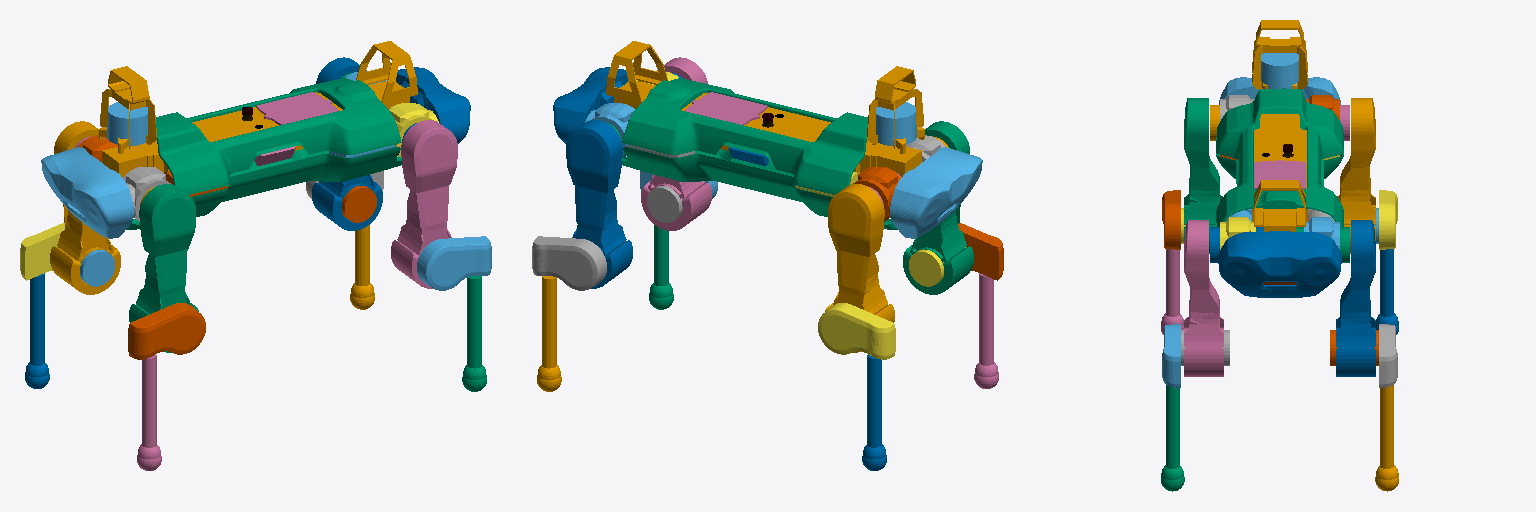
--- Facts derived from the render (not from the file) ---
Views: 3 orthographic renders of the robot side by side, from view 1: azimuth 30°, elevation 25°; view 2: azimuth 150°, elevation 25°; view 3: azimuth 270°, elevation 25°.
Robot: anymal — 63 links, 62 joints (12 revolute, 50 fixed); root link base; default pose: every joint at zero.
Links seen in each view (by area): view 1: shell, RF_thigh_fixed, RH_thigh_fixed, base, face_rear, LH_thigh_fixed, RH_shank_fixed, RF_shank_fixed, LF_thigh_fixed, face_front, velodyne_cage, RF_FOOT (+10 smaller); view 2: shell, LF_thigh_fixed, LH_thigh_fixed, base, face_rear, RH_thigh_fixed, LH_shank_fixed, LF_shank_fixed, RF_thigh_fixed, face_front, velodyne_cage, LF_FOOT (+10 smaller); view 3: shell, face_front, LF_thigh_fixed, RF_thigh_fixed, base, RH_thigh_fixed, LH_thigh_fixed, velodyne_cage, LF_FOOT, RF_FOOT, velodyne, LH_FOOT (+9 smaller).
Link boxes in pixels (x1,y1,x2,y2): shell: (126,78,401,229); RF_thigh_fixed: (391,120,457,288); RH_thigh_fixed: (129,184,198,352); base: (102,41,417,176); face_rear: (41,147,133,238); LH_thigh_fixed: (50,121,120,294); RH_shank_fixed: (128,303,205,359); RF_shank_fixed: (417,236,491,290); LF_thigh_fixed: (312,57,382,230); face_front: (396,67,470,143); velodyne_cage: (99,66,156,153); RF_FOOT: (462,276,486,391); shell: (622,78,897,229); LF_thigh_fixed: (566,120,632,288); LH_thigh_fixed: (825,184,894,352); base: (606,41,921,176); face_rear: (890,147,982,238); RH_thigh_fixed: (903,121,973,294); LH_shank_fixed: (818,303,895,359); LF_shank_fixed: (532,236,606,290); RF_thigh_fixed: (641,57,711,230); face_front: (553,67,627,143); velodyne_cage: (867,66,924,153); LF_FOOT: (537,276,561,391); shell: (1216,88,1343,226); face_front: (1218,231,1341,297); LF_thigh_fixed: (1336,220,1375,376); RF_thigh_fixed: (1184,220,1223,376); base: (1252,114,1307,231); RH_thigh_fixed: (1184,98,1222,253); LH_thigh_fixed: (1337,98,1375,253); velodyne_cage: (1252,20,1307,89); LF_FOOT: (1375,385,1398,491); RF_FOOT: (1161,385,1184,491); velodyne: (1261,53,1298,88); LH_FOOT: (1376,249,1398,334).
Size in the robot's own frame: 1.06 by 0.594 by 0.9076 metres.
Meshes: 16 distinct files referenced, 39 mesh visuals loaded (16 Collada DAE).

The robot description file, URDF, robot "anymal":
<?xml version="1.0" encoding="utf-8"?>
<!-- =================================================================================== -->
<!-- |    This document was autogenerated by xacro from anymal_c.urdf.xacro            | -->
<!-- |    EDITING THIS FILE BY HAND IS NOT RECOMMENDED                                 | -->
<!-- =================================================================================== -->
<!-- This file contains the description of the ANYmal robot. -->
<robot name="anymal" xmlns:xacro="http://www.ros.org/wiki/xacro">
    <material name="anymal_material">
        <color rgba="0.7 0.7 0.7 1.0"/>
    </material>
    <gazebo>
        <plugin filename="libanymal_gazebo.so" name="gazebo_ros_control">
            <robotNamespace>anymal</robotNamespace>
            <!-- Currently unused -->
            <robotDescription>anymal_description</robotDescription>
            <robotBaseLink>base</robotBaseLink>
        </plugin>
    </gazebo>
    <!-- [kg * m^2] -->
    <!-- Base link -->
    <link name="base">
        <visual>
            <origin rpy="0 0 0" xyz="0 0 0"/>
            <geometry>
                <mesh filename="../meshes/base_3_1_1_mesh.dae" scale="1.0 1.0     1.0"/>
            </geometry>
        </visual>
        <visual>
            <origin rpy="0 0 0" xyz="0 0 0"/>
            <geometry>
                <mesh filename="../meshes/handle_3_1_1_mesh.dae" scale="1.0 1.0     1.0"/>
            </geometry>
        </visual>
    </link>
    <!-- Fixed joint to add dummy inertia link -->
    <joint name="base_to_base_inertia" type="fixed">
        <parent link="base"/>
        <child link="base_inertia"/>
        <origin rpy="0 0 0" xyz="0 0 0"/>
    </joint>
    <!-- Dummy inertia link, because KDL cannot have inertia on the base link -->
    <link name="base_inertia">
        <inertial>c
            <origin rpy="0 0 0" xyz="-0.021735324742 -0.001486870654 0.024282211582"/>
            <mass value="10.396012993"/>
            <inertia ixx="0.0373546074128" ixy="-0.00065609405117" ixz="0.00018657925965" iyy="0.746506907991" iyz="-0.000230891041262" izz="0.747061691514"/>
        </inertial>
    </link>
    <!-- Fixed joint to add docking socket -->
    <joint name="base_to_docking_socket" type="fixed">
        <parent link="base"/>
        <child link="docking_socket"/>
        <origin rpy="0 0 0" xyz="0.343 0.0 -0.08"/>
    </joint>
    <!-- Docking socket link -->
    <link name="docking_socket"/>
    <link name="imu_link">
        <inertial>
            <mass value="0.05"/>
            <origin xyz="0 0 0"/>
            <inertia ixx="1.60333333333e-05" ixy="0.0" ixz="0.0" iyy="2.80333333333e-05" iyz="0.0" izz="1.60333333333e-05"/>
        </inertial>
    </link>
    <joint name="imu_joint" type="fixed">
        <parent link="base"/>
        <child link="imu_link"/>
        <origin rpy="0 0 0" xyz="0.379624 0.00445 0.0563"/>
    </joint>
    <gazebo reference="imu_link">c
        <material>Gazebo/Orange</material>
        <mu1>0.8</mu1>
        <mu2>0.8</mu2>
    </gazebo>
    <gazebo reference="imu_joint">
    </gazebo>
    <gazebo>
        <plugin filename="libany_hector_gazebo_ros_imu.so" name="imu_plugin">
            <robotNamespace>sensors</robotNamespace>
            <bodyName>imu_link</bodyName>
            <frameId>imu_link</frameId>
            <topicName>imu</topicName>
            <biasTopicName>imu/bias</biasTopicName>
            <serviceName>imu/calibrate</serviceName>
            <updateRate>400</updateRate>
        </plugin>
    </gazebo>
    <!-- [kg * m^2] -->
    <!-- [m] -->
    <!-- Camera joint -->
    <!-- Is located between the two back screw holes at ground level. -->
    <joint name="base_to_realsense_d435_left_camera" type="fixed">
        <parent link="base"/>
        <child link="realsense_d435_left_camera"/>
        <origin rpy="0.0 0.523598775598 1.57079632679" xyz="0.0 0.0722 0.0324"/>
    </joint>
    <!-- Camera link -->
    <link name="realsense_d435_left_camera">
        <visual>
            <origin rpy="0 0 0" xyz="0.0 0.0 0.0"/>
            <geometry>
                <mesh filename="../meshes/realsense_d435_3_1_1_mesh.dae" scale="1.0 1.0 1.0"/>
            </geometry>
        </visual>
        <inertial>
            <origin rpy="0 0 0" xyz="0.0642 -0.0102 0.0033"/>
            <mass value="0.2"/>
            <inertia ixx="0.002318" ixy="-1e-06" ixz="9e-06" iyy="0.00206" iyz="0.000333" izz="0.002439"/>
        </inertial>
    </link>
    <!-- Camera parent joint -->
    <!-- Frame lies on the left ir camera according to realsense2_camera urdf. -->
    <joint name="realsense_d435_left_camera_to_camera_parent" type="fixed">
        <parent link="realsense_d435_left_camera"/>
        <child link="realsense_d435_left_camera_parent"/>
        <origin rpy="0.0 0.0 0.0" xyz="0.0255 0.0175 0.0"/>
    </joint>
    <!-- Camera parent link -->
    <link name="realsense_d435_left_camera_parent"/>
    <!-- simulation or bagfile_is_played -->
    <!-- simulation -->
    <!-- [kg * m^2] -->
    <!-- [m] -->
    <!-- Camera joint -->
    <!-- Is located between the two back screw holes at ground level. -->
    <joint name="base_to_realsense_d435_right_camera" type="fixed">
        <parent link="base"/>
        <child link="realsense_d435_right_camera"/>
        <origin rpy="0.0 0.523598775598 -1.57079632679" xyz="0.0 -0.0722 0.0324"/>
    </joint>
    <!-- Camera link -->
    <link name="realsense_d435_right_camera">
        <visual>
            <origin rpy="0 0 0" xyz="0.0 0.0 0.0"/>
            <geometry>
                <mesh filename="../meshes/realsense_d435_3_1_1_mesh.dae" scale="1.0 1.0 1.0"/>
            </geometry>
        </visual>
        <inertial>
            <origin rpy="0 0 0" xyz="0.0642 -0.0102 0.0033"/>
            <mass value="0.2"/>
            <inertia ixx="0.002318" ixy="-1e-06" ixz="9e-06" iyy="0.00206" iyz="0.000333" izz="0.002439"/>
        </inertial>
    </link>
    <!-- Camera parent joint -->
    <!-- Frame lies on the left ir camera according to realsense2_camera urdf. -->
    <joint name="realsense_d435_right_camera_to_camera_parent" type="fixed">
        <parent link="realsense_d435_right_camera"/>
        <child link="realsense_d435_right_camera_parent"/>
        <origin rpy="0.0 0.0 0.0" xyz="0.0255 0.0175 0.0"/>
    </joint>
    <!-- Camera parent link -->
    <link name="realsense_d435_right_camera_parent"/>
    <!-- simulation or bagfile_is_played -->
    <!-- simulation -->
    <!-- [kg * m^2] -->
    <!-- [m] -->
    <!-- parent to cage joint, located between mounting plate on trunk and the cage -->
    <joint name="base_to_velodyne_cage" type="fixed">
        <parent link="base"/>
        <child link="velodyne_cage"/>
        <origin rpy="0 0 3.14159265359" xyz="-0.35 0.0 0.1"/>
        <!--<origin rpy="0 0 0" xyz="-0.35 0.0 0.0813"/>-->
    </joint>
    <!-- Velodyne cage link -->
    <link name="velodyne_cage">
        <visual>
            <origin rpy="0.0 0.0 0.0" xyz="0.0 0.0 0.0"/>
            <geometry>
                <mesh filename="../meshes/cage_3_1_1_mesh.dae" scale="1.0 1.0 1.0"/>
            </geometry>
        </visual>
        <inertial>
            <origin rpy="0.0 0.0 0.0" xyz="0.0642 -0.0102 0.0033"/>
            <mass value="0.2"/>
            <inertia ixx="0.002318" ixy="-1e-06" ixz="9e-06" iyy="0.00206" iyz="0.000333" izz="0.002439"/>
        </inertial>
    </link>
    <!-- [kg * m^2] -->
    <!-- parent to sensor joint -->
    <joint name="velodyne_cage_to_velodyne" type="fixed">
        <parent link="velodyne_cage"/>
        <child link="velodyne"/>
        <origin rpy="0.0 0.0 0.0" xyz="0.0 0.0 0.05"/>
        <!--<origin rpy="0.0 0.0 1.57079632679" xyz="0.0 0.0 0.0687"/>-->
    </joint>
    <!-- Velodyne sensor link -->
    <link name="velodyne">
        <inertial>
            <!--<origin rpy="0.0 0.0 0.0" xyz="0.0 8e-05 -0.0025"/>-->
            <!--<mass value="0.59"/>-->
            <!--<inertia ixx="0.00063992282" ixy="1.1e-10" ixz="5.061e-08" iyy="0.00063682474" iyz="1.38867e-06" izz="0.00075943194"/>-->
            <origin rpy="0.0 0.0 0.0" xyz="0.0642 -0.0102 0.0033"/>
            <mass value="0.5"/>
            <inertia ixx="0.002318" ixy="-1e-06" ixz="9e-06" iyy="0.00206" iyz="0.000333" izz="0.002439"/>
        </inertial>



        <visual>
            <origin xyz="0 0 0"/>
            <geometry>
                <mesh filename="../meshes/velodyne_3_1_1_mesh.dae"/>
            </geometry>
        </visual>
    </link>
    <!-- simulation -->
    <!-- [m] -->
    <!-- measured -->
    <!-- Fixed joint base shell -->
    <joint name="base_shell" type="fixed">
        <parent link="base"/>
        <child link="shell"/>
        <origin rpy="0 0 0" xyz="0 0 0"/>
    </joint>
    <!-- Shell link -->
    <link name="shell">
        <visual>
            <origin rpy="0 0 0" xyz="0 0 0"/>
            <geometry>
                <mesh filename="../meshes/bottom_shell_3_1_1_mesh.dae" scale="1.0 1.0 1.0"/>
            </geometry>
        </visual>
        <visual>
            <origin rpy="0 0 0" xyz="0 0 0"/>
            <geometry>
                <mesh filename="../meshes/top_shell_3_1_1_mesh.dae" scale="1.0 1.0 1.0"/>
            </geometry>
        </visual>

        <collision>
            <origin rpy="0 0 0" xyz="0 0 0"/>
            <geometry>
                <box size="1.06 0.14 0.18"/>
            </geometry>
        </collision>
        <!--        <collision>-->
        <!--            <origin rpy="0 1.57079632679 0" xyz="0.2175 0.07 0"/>-->
        <!--            <geometry>-->
        <!--                <cylinder length="0.145" radius="0.09"/>-->
        <!--            </geometry>-->
        <!--        </collision>-->
        <!--        <collision>-->
        <!--            <origin rpy="0 1.57079632679 0" xyz="-0.2175 0.07 0"/>-->
        <!--            <geometry>-->
        <!--                <cylinder length="0.145" radius="0.09"/>-->
        <!--            </geometry>-->
        <!--        </collision>-->
        <!--        <collision>-->
        <!--            <origin rpy="0 1.57079632679 0" xyz="0.2175 -0.07 0"/>-->
        <!--            <geometry>-->
        <!--                <cylinder length="0.145" radius="0.09"/>-->
        <!--            </geometry>-->
        <!--        </collision>-->
        <!--        <collision>-->
        <!--            <origin rpy="0 1.57079632679 0" xyz="-0.2175 -0.07 0"/>-->
        <!--            <geometry>-->
        <!--                <cylinder length="0.145" radius="0.09"/>-->
        <!--            </geometry>-->
        <!--        </collision>-->
        <inertial>
            <origin rpy="0 0 0" xyz="0.001601658696 4.994078e-06 -0.053989505466"/>
            <mass value="1.268141902"/>
            <inertia ixx="0.0135322195912" ixy="-4.331264849e-06" ixz="0.000309123980027" iyy="0.0696430373562" iyz="-5.70632185e-07" izz="0.0735432141695"/>
        </inertial>
        <!-- Shell self filtering -->
        <self_filter>
            <origin rpy="0 0 0" xyz="0 0 0"/>
            <geometry>
                <box size="1.05 0.5 0.25"/>
            </geometry>
        </self_filter>
    </link>
    <!-- [kg * m^2] -->
    <!-- Fixed joint base battery -->
    <joint name="base_battery" type="fixed">
        <parent link="base"/>
        <child link="battery"/>
        <origin rpy="0 0 0" xyz="0 0 0"/>
    </joint>
    <!-- Shell link -->
    <link name="battery">
        <inertial>
            <origin rpy="0 0 0" xyz="-0.002960176299 -0.000123548844 -0.029760061761"/>
            <mass value="5.55"/>
            <inertia ixx="0.00745552667311" ixy="-0.000137110335303" ixz="0.000113360685966" iyy="0.0789745608826" iyz="1.220264954e-06" izz="0.081437267966"/>
        </inertial>
    </link>
    <!-- [m] -->
    <!-- measured -->
    <!-- Fixed joint base face -->
    <joint name="base_face_front" type="fixed">
        <parent link="base"/>
        <child link="face_front"/>
        <origin rpy="0 0 -0.0" xyz="0.42 0 0"/>
    </joint>
    <!-- Shell link -->
    <link name="face_front">
        <visual>
            <origin rpy="0 0 0" xyz="0 0 0"/>
            <geometry>
                <mesh filename="../meshes/face_3_1_1_mesh.dae" scale="1.0 1.0 1.0"/>
            </geometry>
        </visual>
                <collision>
                    <origin rpy="0 0 0" xyz="0 0 0"/>
                    <geometry>
                        <box size="0.11 0.14 0.18"/>
                    </geometry>
                </collision>
        <!--        <collision>-->
        <!--            <origin rpy="0 1.57079632679 0" xyz="0 0.07 0"/>-->
        <!--            <geometry>-->
        <!--                <cylinder length="0.11" radius="0.09"/>-->
        <!--            </geometry>-->
        <!--        </collision>-->
        <!--        <collision>-->
        <!--            <origin rpy="0 1.57079632679 0" xyz="0 -0.07 0"/>-->
        <!--            <geometry>-->
        <!--                <cylinder length="0.11" radius="0.09"/>-->
        <!--            </geometry>-->
        <!--        </collision>-->
        <inertial>
            <origin rpy="0 0 0" xyz="0.058640885474 5.7767683e-05 0.006500935099"/>
            <mass value="0.3"/>
            <inertia ixx="0.00353942466306" ixy="6.9508982e-07" ixz="8.5674409639e-05" iyy="0.000912856093445" iyz="3.44298293e-07" izz="0.00305824458528"/>
        </inertial>
    </link>
    <!-- [kg * m^2] -->
    <!-- [m] -->
    <!-- Camera joint -->
    <!-- Is located between the two back screw holes at ground level. -->
    <joint name="face_front_to_realsense_d435_front_camera" type="fixed">
        <parent link="face_front"/>
        <child link="realsense_d435_front_camera"/>
        <origin rpy="0.0 0.523598775598 0" xyz="0.041 0.0 -0.022"/>
    </joint>
    <!-- Camera link -->
    <link name="realsense_d435_front_camera">
        <visual>
            <origin rpy="0 0 0" xyz="0.0 0.0 0.0"/>
            <geometry>
                <mesh filename="../meshes/realsense_d435_3_1_1_mesh.dae" scale="1.0 1.0 1.0"/>
            </geometry>
        </visual>
        <inertial>
            <origin rpy="0 0 0" xyz="0.0642 -0.0102 0.0033"/>
            <mass value="0.2"/>
            <inertia ixx="0.002318" ixy="-1e-06" ixz="9e-06" iyy="0.00206" iyz="0.000333" izz="0.002439"/>
        </inertial>
    </link>
    <!-- Camera parent joint -->
    <!-- Frame lies on the left ir camera according to realsense2_camera urdf. -->
    <joint name="realsense_d435_front_camera_to_camera_parent" type="fixed">
        <parent link="realsense_d435_front_camera"/>
        <child link="realsense_d435_front_camera_parent"/>
        <origin rpy="0.0 0.0 0.0" xyz="0.0255 0.0175 0.0"/>
    </joint>
    <!-- Camera parent link -->
    <link name="realsense_d435_front_camera_parent"/>
    <!-- simulation or bagfile_is_played -->
    <!-- simulation -->
    <!-- [kg * m^2] -->
    <!-- [m] -->
    <!-- Camera joint -->
    <!-- Is located in the center of the mounting points. -->
    <joint name="face_front_to_blackfly_front_camera" type="fixed">
        <parent link="face_front"/>
        <child link="blackfly_front_camera"/>
        <origin rpy="0 0 0" xyz="0.071 0.0 0.022"/>
    </joint>
    <!-- Camera link -->
    <link name="blackfly_front_camera">
        <visual>
            <origin rpy="0 0 0" xyz="0.0 0.0 0.0"/>
            <geometry>
                <mesh filename="../meshes/blackfly_3_1_1_mesh.dae" scale="1.0 1.0 1.0"/>
            </geometry>
        </visual>
        <inertial>
            <origin rpy="0 0 0" xyz="0.0642 -0.0102 0.0033"/>
            <mass value="0.1"/>
            <inertia ixx="0.002318" ixy="-1e-06" ixz="9e-06" iyy="0.00206" iyz="0.000333" izz="0.002439"/>
        </inertial>
    </link>
    <!-- Camera parent joint -->
    <joint name="blackfly_front_camera_to_camera_parent" type="fixed">
        <parent link="blackfly_front_camera"/>
        <child link="blackfly_front_camera_parent"/>
        <origin rpy="-1.57079632679 0.0 -1.57079632679" xyz="0.0 0.0 0.0"/>
    </joint>
    <!-- Camera parent link -->
    <link name="blackfly_front_camera_parent"/>
    <!-- simulation -->
    <!-- [m] -->
    <!-- measured -->
    <!-- Fixed joint base face -->
    <joint name="base_face_rear" type="fixed">
        <parent link="base"/>
        <child link="face_rear"/>
        <origin rpy="0 0 3.14159265359" xyz="-0.42 0 0"/>
    </joint>
    <!-- Shell link -->
    <link name="face_rear">
        <visual>
            <origin rpy="0 0 0" xyz="0 0 0"/>
            <geometry>
                <mesh filename="../meshes/face_3_1_1_mesh.dae" scale="1.0 1.0 1.0"/>
            </geometry>
        </visual>
        <inertial>
            <origin rpy="0 0 0" xyz="0.058640885474 5.7767683e-05 0.006500935099"/>
            <mass value="0.3"/>
            <inertia ixx="0.00353942466306" ixy="6.9508982e-07" ixz="8.5674409639e-05" iyy="0.000912856093445" iyz="3.44298293e-07" izz="0.00305824458528"/>
        </inertial>
    </link>
    <!-- [kg * m^2] -->
    <!-- [m] -->
    <!-- Camera joint -->
    <!-- Is located between the two back screw holes at ground level. -->
    <joint name="face_rear_to_realsense_d435_rear_camera" type="fixed">
        <parent link="face_rear"/>
        <child link="realsense_d435_rear_camera"/>
        <origin rpy="0.0 0.523598775598 0" xyz="0.041 0.0 -0.022"/>
    </joint>
    <!-- Camera link -->
    <link name="realsense_d435_rear_camera">
        <visual>
            <origin rpy="0 0 0" xyz="0.0 0.0 0.0"/>
            <geometry>
                <mesh filename="../meshes/realsense_d435_3_1_1_mesh.dae" scale="1.0 1.0 1.0"/>
            </geometry>
        </visual>
        <inertial>
            <origin rpy="0 0 0" xyz="0.0642 -0.0102 0.0033"/>
            <mass value="0.2"/>
            <inertia ixx="0.002318" ixy="-1e-06" ixz="9e-06" iyy="0.00206" iyz="0.000333" izz="0.002439"/>
        </inertial>
    </link>
    <!-- Camera parent joint -->
    <!-- Frame lies on the left ir camera according to realsense2_camera urdf. -->
    <joint name="realsense_d435_rear_camera_to_camera_parent" type="fixed">
        <parent link="realsense_d435_rear_camera"/>
        <child link="realsense_d435_rear_camera_parent"/>
        <origin rpy="0.0 0.0 0.0" xyz="0.0255 0.0175 0.0"/>
    </joint>
    <!-- Camera parent link -->
    <link name="realsense_d435_rear_camera_parent"/>
    <!-- simulation or bagfile_is_played -->
    <!-- simulation -->
    <!-- [kg * m^2] -->
    <!-- [m] -->
    <!-- Camera joint -->
    <!-- Is located in the center of the mounting points. -->
    <joint name="face_rear_to_blackfly_rear_camera" type="fixed">
        <parent link="face_rear"/>
        <child link="blackfly_rear_camera"/>
        <origin rpy="0 0 0" xyz="0.071 0.0 0.022"/>
    </joint>
    <!-- Camera link -->
    <link name="blackfly_rear_camera">
        <visual>
            <origin rpy="0 0 0" xyz="0.0 0.0 0.0"/>
            <geometry>
                <mesh filename="../meshes/blackfly_3_1_1_mesh.dae" scale="1.0 1.0 1.0"/>
            </geometry>
        </visual>
        <inertial>
            <origin rpy="0 0 0" xyz="0.0642 -0.0102 0.0033"/>
            <mass value="0.1"/>
            <inertia ixx="0.002318" ixy="-1e-06" ixz="9e-06" iyy="0.00206" iyz="0.000333" izz="0.002439"/>
        </inertial>
    </link>
    <!-- Camera parent joint -->
    <joint name="blackfly_rear_camera_to_camera_parent" type="fixed">
        <parent link="blackfly_rear_camera"/>
        <child link="blackfly_rear_camera_parent"/>
        <origin rpy="-1.57079632679 0.0 -1.57079632679" xyz="0.0 0.0 0.0"/>
    </joint>
    <!-- Camera parent link -->
    <link name="blackfly_rear_camera_parent"/>
    <!-- simulation -->
    <!-- [rad] -->
    <!-- joint base HAA -->
    <!-- [kg * m^2] -->
    <!-- Fixed joint base hatch -->
    <joint name="base_hatch" type="fixed">
        <parent link="base"/>
        <child link="hatch"/>
        <origin rpy="0 0 0" xyz="0.0 0.0 0.0"/>
    </joint>
    <!-- Hatch link -->
    <link name="hatch">
        <visual>
            <origin rpy="0 0 0" xyz="0.116 0 0.073"/>
            <geometry>
                <mesh filename="../meshes/hatch_3_1_1_mesh.dae" scale="1.0 1.0 1.0"/>
            </geometry>
        </visual>
        <inertial>
            <origin rpy="0 0 0" xyz="0.116 0.0 0.0758"/>
            <mass value="0.142"/>
            <inertia ixx="0.001" ixy="0.001" ixz="0.001" iyy="0.001" iyz="0.001" izz="0.001"/>
        </inertial>
    </link>
    <joint name="base_LF_HAA" type="fixed">
        <parent link="base"/>
        <child link="LF_HAA"/>
        <origin rpy="0.174532925199 0 0.0" xyz="0.3 0.104 0.0"/>
    </joint>
    <!-- [m] -->
    <!-- [A] -->
    <!-- Drive link -->
    <link name="LF_HAA">
        <visual>
            <origin rpy="0 0 0" xyz="0 0 0"/>
            <geometry>
                <mesh filename="../meshes/drive_3_0_2_mesh.dae" scale="1.0 1.0     1.0"/>
            </geometry>
        </visual>
        <inertial>
            <origin rpy="0 0 0" xyz="-0.051008462309 4.2382171e-05 0.001928394422"/>
            <mass value="1.371293164"/>
            <inertia ixx="0.00132750404318" ixy="2.667453e-07" ixz="-6.5578582056e-05" iyy="0.00197358077377" iyz="1.305902533e-06" izz="0.00183646051615"/>
        </inertial>
    </link>
    <!-- joint Drive output -->
    <joint name="LF_HAA" type="revolute">
        <parent link="LF_HAA"/>
        <child link="LF_HIP"/>
        <origin rpy="0 0 0" xyz="0 0 0"/>
        <axis xyz="1 0 0"/>
        <limit command_effort="57.0" current="10.0" effort="80.0" gear_velocity="10.0" lower="-9.42477796077" upper="9.42477796077" velocity="15.0"/>
        <dynamics damping="0.0" friction="0.0"/>
    </joint>
    <!-- Drive output link -->
    <link name="LF_HIP">
        <inertial>
            <origin rpy="0 0 0" xyz="0 0 0"/>
            <mass value="0.001"/>
            <inertia ixx="0.000001" ixy="0.0" ixz="0.0" iyy="0.000001" iyz="0.0" izz="0.000001"/>
        </inertial>
    </link>
    <!-- [kg * m^2] -->
    <!-- joint HAA hip -->
    <joint name="LF_HIP_LF_hip_fixed" type="fixed">
        <parent link="LF_HIP"/>
        <child link="LF_hip_fixed"/>
        <origin rpy="-0.174532925199 0 0.0" xyz="0 0 0"/>
    </joint>
    <!-- Hip link -->
    <link name="LF_hip_fixed">
        <visual>
            <origin rpy="0 0 0.0" xyz="0 0 0"/>
            <geometry>
                <mesh filename="../meshes/hip_3_1_1_mesh.dae" scale="1.0 1.0     1.0"/>
            </geometry>
        </visual>
        <inertial>
            <origin rpy="0 0 0" xyz="0.090762388354 0.000733055279 -0.001556575559"/>
            <mass value="0.490061659"/>
            <inertia ixx="0.00072708117274" ixy="-8.107655694e-06" ixz="2.1517369242e-05" iyy="0.00187018767039" iyz="2.508888647e-05" izz="0.00167883666103"/>
        </inertial>
    </link>
    <!-- [rad] -->
    <!-- joint hip HFE -->
    <joint name="LF_hip_fixed_LF_HFE" type="fixed">
        <parent link="LF_hip_fixed"/>
        <child link="LF_HFE"/>
        <origin rpy="0 0 1.57079632679" xyz="0.06 0.0701 0.0"/>
        <!--<origin rpy="0 0 1.57079632679" xyz="0.06 0.0.0 0.0"/>-->
    </joint>
    <!-- [m] -->
    <!-- [A] -->
    <!-- Drive link -->
    <link name="LF_HFE">
        <visual>
            <origin rpy="0 0 0" xyz="0 0 0"/>
            <geometry>
                <mesh filename="../meshes/drive_3_0_2_mesh.dae" scale="1.0 1.0     1.0"/>
            </geometry>
        </visual>
        <inertial>
            <origin rpy="0 0 0" xyz="-0.051008462309 4.2382171e-05 0.001928394422"/>
            <mass value="1.371293164"/>
            <inertia ixx="0.00132750404318" ixy="2.667453e-07" ixz="-6.5578582056e-05" iyy="0.00197358077377" iyz="1.305902533e-06" izz="0.00183646051615"/>
        </inertial>
    </link>
    <!-- joint Drive output -->
    <joint name="LF_HFE" type="revolute">
        <parent link="LF_HFE"/>
        <child link="LF_THIGH"/>
        <origin rpy="0 0 0" xyz="0 0 0"/>
        <axis xyz="1 0 0"/>
        <limit command_effort="65.0" current="10.0" effort="80.0" gear_velocity="10.0" lower="-9.42477796077" upper="9.42477796077" velocity="7.0"/>
        <dynamics damping="0.0" friction="0.0"/>
    </joint>
    <!-- Drive output link -->
    <link name="LF_THIGH">
        <inertial>
            <origin rpy="0 0 0" xyz="0 0 0"/>
            <mass value="0.001"/>
            <inertia ixx="0.000001" ixy="0.0" ixz="0.0" iyy="0.000001" iyz="0.0" izz="0.000001"/>
        </inertial>
    </link>
    <!-- [m] -->
    <!-- measured -->
    <!-- joint HFE thigh -->
    <joint name="LF_THIGH_LF_thigh_fixed" type="fixed">
        <parent link="LF_THIGH"/>
        <child link="LF_thigh_fixed"/>
        <origin rpy="0 0 -1.57079632679" xyz="0 0 0"/>
    </joint>
    <!-- Thigh link -->
    <link name="LF_thigh_fixed">
        <visual>
            <origin rpy="0 0 0.0" xyz="0 0 0"/>
            <geometry>
                <mesh filename="../meshes/thigh_3_1_1_mesh.dae" scale="1.0 1.0     1.0"/>
            </geometry>
        </visual>
        <inertial>
            <origin rpy="0 0 0" xyz="0.0127 0.0171 -0.1414"/>
            <mass value="0.977826611"/>
            <inertia ixx="0.014928" ixy="-8.8e-05" ixz="-0.001792" iyy="0.0158490785585" iyz="0.000654" izz="0.001794"/>
        </inertial>
    </link>
    <!-- [rad] -->
    <!-- joint thigh KFE -->
    <joint name="LF_thigh_fixed_LF_KFE" type="fixed">
        <parent link="LF_thigh_fixed"/>
        <child link="LF_KFE"/>
        <origin rpy="-0.261799387799 0 1.57079632679" xyz="0.0 0.086887 -0.282627"/>
    </joint>
    <!-- [m] -->
    <!-- [A] -->
    <!-- Drive link -->
    <link name="LF_KFE">
        <visual>
            <origin rpy="0 0 0" xyz="0 0 0"/>
            <geometry>
                <mesh filename="../meshes/drive_3_0_2_mesh.dae" scale="1.0 1.0     1.0"/>
            </geometry>
        </visual>
        <collision>
            <origin rpy="0 1.57079632679 0" xyz="-0.02 0 0"/>
            <geometry>
                <capsule length="0.06" radius="0.06"/>
            </geometry>
        </collision>
        <inertial>
            <origin rpy="0 0 0" xyz="-0.051008462309 4.2382171e-05 0.001928394422"/>
            <mass value="1.371293164"/>
            <inertia ixx="0.00132750404318" ixy="2.667453e-07" ixz="-6.5578582056e-05" iyy="0.00197358077377" iyz="1.305902533e-06" izz="0.00183646051615"/>
        </inertial>
    </link>
    <!-- joint Drive output -->
    <joint name="LF_KFE" type="revolute">
        <parent link="LF_KFE"/>
        <child link="LF_SHANK"/>
        <origin rpy="0 0 0" xyz="0 0 0"/>
        <axis xyz="1 0 0"/>
        <limit command_effort="65.0" current="10.0" effort="80.0" gear_velocity="10.0" lower="-9.42477796077" upper="9.42477796077" velocity="7.0"/>
        <dynamics damping="0.0" friction="0.0"/>
    </joint>
    <!-- Drive output link -->
    <link name="LF_SHANK">
        <inertial>
            <origin rpy="0 0 0" xyz="0 0 0"/>
            <mass value="0.001"/>
            <inertia ixx="0.000001" ixy="0.0" ixz="0.0" iyy="0.000001" iyz="0.0" izz="0.000001"/>
        </inertial>
    </link>
    <!-- [m] -->
    <!-- measured -->
    <!-- joint KFE shank -->
    <joint name="LF_shank_LF_shank_fixed" type="fixed">
        <parent link="LF_SHANK"/>
        <child link="LF_shank_fixed"/>
        <origin rpy="0 0.261799387799 -1.57079632679" xyz="0 0 0"/>
    </joint>
    <!-- Shank link -->
    <link name="LF_shank_fixed">
        <visual>
            <origin rpy="0 0 0.0" xyz="0 0 0"/>
            <geometry>
                <mesh filename="../meshes/shank_3_1_1_mesh.dae" scale="1.0 1.0     1.0"/>
            </geometry>
        </visual>
        <inertial>
            <origin rpy="0 0 0" xyz="0.032845496765 0.020087452943 0.000819464952"/>
            <mass value="0.3203472"/>
            <inertia ixx="0.000315561389972" ixy="-1.0430108417e-05" ixz="1.4120800915e-05" iyy="0.00107764668281" iyz="3.60309972e-07" izz="0.000870072710319"/>
        </inertial>
    </link>
    <!-- [m] -->
    <!-- joint shank foot -->
    <joint name="LF_shank_fixed_LF_FOOT" type="fixed">
        <parent link="LF_shank_fixed"/>
        <child link="LF_FOOT"/>
        <origin rpy="0 0 0" xyz="0.08748 0.006 -0.342504"/>
    </joint>
    <!-- Foot link -->
    <link name="LF_FOOT">
        <!-- temporary visual, copied collision body -->
        <visual>
            <origin rpy="0 0 0" xyz="0 0 0.171252"/>
            <geometry>
                <cylinder length="0.24504" radius="0.0175"/>
            </geometry>
        </visual>
        <visual>
            <origin xyz="0 0 0.0375"/>
            <!--<geometry>-->
                <!--<cylinder length="0.03" radius="0.029"/>-->
            <!--</geometry>-->
            <geometry>
                <sphere radius="0.028"/>
            </geometry>
        </visual>

        <visual>
            <origin xyz="0 0 0.0225"/>
            <geometry>
                <sphere radius="0.03"/>
            </geometry>
        </visual>
        <!-- Adapter collision -->
        <collision>
            <origin rpy="0 0 0" xyz="0 0 0.171252"/>
            <geometry>
                <capsule length="0.24504" radius="0.0175"/>
            </geometry>
        </collision>
        <!-- Foot collision -->
        <collision>
            <origin xyz="0 0 0.0375"/>
            <!--<origin xyz="0 0 0.0"/>-->
            <!--<geometry>-->
                <!--<cylinder length="0.033" radius="0.029"/>-->
            <!--</geometry>-->
            <geometry>
                <sphere radius="0.028"/>
            </geometry>
        </collision>

        <collision>
            <origin xyz="0 0 0.0225"/>
            <geometry>
                <sphere radius="0.03"/>
            </geometry>
        </collision>
        <inertial>
            <origin rpy="0 0 0" xyz="0.08640071854 4.566e-08 0.158952618655"/>
            <mass value="0.205145377"/>
            <inertia ixx="0.00315582473384" ixy="2.7197e-10" ixz="0.000388520744383" iyy="0.00316202017111" iyz="8.6741e-11" izz="8.1052626806e-05"/>
        </inertial>
    </link>
    <!-- Gazebo customization -->
    <gazebo reference="LF_FOOT">
        <kp>1000000.0</kp>
        <kd>100.0</kd>
        <mu1>0.8</mu1>
        <mu2>0.8</mu2>
    </gazebo>
    <!-- [rad] -->
    <!-- joint base HAA -->
    <joint name="base_RF_HAA" type="fixed">
        <parent link="base"/>
        <child link="RF_HAA"/>
        <origin rpy="-0.174532925199 0 0.0" xyz="0.3 -0.104 0.0"/>
    </joint>
    <!-- [m] -->
    <!-- [A] -->
    <!-- Drive link -->
    <link name="RF_HAA">
        <visual>
            <origin rpy="0 0 0" xyz="0 0 0"/>
            <geometry>
                <mesh filename="../meshes/drive_3_0_2_mesh.dae" scale="1.0 1.0     1.0"/>
            </geometry>
        </visual>
        <inertial>
            <origin rpy="0 0 0" xyz="-0.051008462309 4.2382171e-05 0.001928394422"/>
            <mass value="1.371293164"/>
            <inertia ixx="0.00132750404318" ixy="2.667453e-07" ixz="-6.5578582056e-05" iyy="0.00197358077377" iyz="1.305902533e-06" izz="0.00183646051615"/>
        </inertial>
    </link>
    <!-- joint Drive output -->
    <joint name="RF_HAA" type="revolute">
        <parent link="RF_HAA"/>
        <child link="RF_HIP"/>
        <origin rpy="0 0 0" xyz="0 0 0"/>
        <axis xyz="1 0 0"/>
        <limit command_effort="57.0" current="10.0" effort="80.0" gear_velocity="10.0" lower="-9.42477796077" upper="9.42477796077" velocity="15.0"/>
        <dynamics damping="0.0" friction="0.0"/>
    </joint>
    <!-- Drive output link -->
    <link name="RF_HIP">
        <inertial>
            <origin rpy="0 0 0" xyz="0 0 0"/>
            <mass value="0.001"/>
            <inertia ixx="0.000001" ixy="0.0" ixz="0.0" iyy="0.000001" iyz="0.0" izz="0.000001"/>
        </inertial>
    </link>
    <!-- [kg * m^2] -->
    <!-- joint HAA hip -->
    <joint name="RF_HIP_RF_hip_fixed" type="fixed">
        <parent link="RF_HIP"/>
        <child link="RF_hip_fixed"/>
        <origin rpy="0.174532925199 0 0.0" xyz="0 0 0"/>
    </joint>
    <!-- Hip link -->
    <link name="RF_hip_fixed">
        <visual>
            <origin rpy="0 0 0.0" xyz="0 0 0"/>
            <geometry>
                <mesh filename="../meshes/hip_3_1_1_mesh_mirrored.dae" scale="1.0 1.0     1.0"/>
            </geometry>
        </visual>
        <inertial>
            <origin rpy="0 0 0" xyz="0.090762388354 -0.000733055279 -0.001556575559"/>
            <mass value="0.490061659"/>
            <inertia ixx="0.00072708117274" ixy="8.107655694e-06" ixz="2.1517369242e-05" iyy="0.00187018767039" iyz="-2.508888647e-05" izz="0.00167883666103"/>
        </inertial>
    </link>
    <!-- [rad] -->
    <!-- joint hip HFE -->
    <joint name="RF_hip_fixed_RF_HFE" type="fixed">
        <parent link="RF_hip_fixed"/>
        <child link="RF_HFE"/>
        <origin rpy="0 0 -1.57079632679" xyz="0.06 -0.0701 0.0"/>
    </joint>
    <!-- [m] -->
    <!-- [A] -->
    <!-- Drive link -->
    <link name="RF_HFE">
        <visual>
            <origin rpy="0 0 0" xyz="0 0 0"/>
            <geometry>
                <mesh filename="../meshes/drive_3_0_2_mesh.dae" scale="1.0 1.0     1.0"/>
            </geometry>
        </visual>
        <inertial>
            <origin rpy="0 0 0" xyz="-0.051008462309 4.2382171e-05 0.001928394422"/>
            <mass value="1.371293164"/>
            <inertia ixx="0.00132750404318" ixy="2.667453e-07" ixz="-6.5578582056e-05" iyy="0.00197358077377" iyz="1.305902533e-06" izz="0.00183646051615"/>
        </inertial>
    </link>
    <!-- joint Drive output -->
    <joint name="RF_HFE" type="revolute">
        <parent link="RF_HFE"/>
        <child link="RF_THIGH"/>
        <origin rpy="0 0 0" xyz="0 0 0"/>
        <axis xyz="-1 0 0"/>
        <limit command_effort="65.0" current="10.0" effort="80.0" gear_velocity="10.0" lower="-9.42477796077" upper="9.42477796077" velocity="7.0"/>
        <dynamics damping="0.0" friction="0.0"/>
    </joint>
    <!-- Drive output link -->
    <link name="RF_THIGH">
        <inertial>
            <origin rpy="0 0 0" xyz="0 0 0"/>
            <mass value="0.001"/>
            <inertia ixx="0.000001" ixy="0.0" ixz="0.0" iyy="0.000001" iyz="0.0" izz="0.000001"/>
        </inertial>
    </link>
    <!-- [m] -->
    <!-- measured -->
    <!-- joint HFE thigh -->
    <joint name="RF_THIGH_RF_thigh_fixed" type="fixed">
        <parent link="RF_THIGH"/>
        <child link="RF_thigh_fixed"/>
        <origin rpy="0 0 1.57079632679" xyz="0 0 0"/>
    </joint>
    <!-- Thigh link -->
    <link name="RF_thigh_fixed">
        <visual>
            <origin rpy="0 0 -3.14159265359" xyz="0 0 0"/>
            <geometry>
                <mesh filename="../meshes/thigh_3_1_1_mesh.dae" scale="1.0 1.0     1.0"/>
            </geometry>
        </visual>
        <inertial>
            <origin rpy="0 0 0" xyz="0.0127 -0.0171 -0.1414"/>
            <mass value="0.977826611"/>
            <inertia ixx="0.014928" ixy="8.8e-05" ixz="-0.001792" iyy="0.0158490785585" iyz="-0.000654" izz="0.001794"/>
        </inertial>
    </link>
    <!-- [rad] -->
    <!-- joint thigh KFE -->
    <joint name="RF_thigh_fixed_RF_KFE" type="fixed">
        <parent link="RF_thigh_fixed"/>
        <child link="RF_KFE"/>
        <origin rpy="0.261799387799 0 -1.57079632679" xyz="0.0 -0.086887 -0.282627"/>
    </joint>
    <!-- [m] -->
    <!-- [A] -->
    <!-- Drive link -->
    <link name="RF_KFE">
        <visual>
            <origin rpy="0 0 0" xyz="0 0 0"/>
            <geometry>
                <mesh filename="../meshes/drive_3_0_2_mesh.dae" scale="1.0 1.0     1.0"/>
            </geometry>
        </visual>
        <collision>
            <origin rpy="0 1.57079632679 0" xyz="-0.02 0 0"/>
            <geometry>
                <capsule length="0.06" radius="0.06"/>
            </geometry>
        </collision>
        <inertial>
            <origin rpy="0 0 0" xyz="-0.051008462309 4.2382171e-05 0.001928394422"/>
            <mass value="1.371293164"/>
            <inertia ixx="0.00132750404318" ixy="2.667453e-07" ixz="-6.5578582056e-05" iyy="0.00197358077377" iyz="1.305902533e-06" izz="0.00183646051615"/>
        </inertial>
    </link>
    <!-- joint Drive output -->
    <joint name="RF_KFE" type="revolute">
        <parent link="RF_KFE"/>
        <child link="RF_SHANK"/>
        <origin rpy="0 0 0" xyz="0 0 0"/>
        <axis xyz="-1 0 0"/>
        <limit command_effort="65.0" current="10.0" effort="80.0" gear_velocity="10.0" lower="-9.42477796077" upper="9.42477796077" velocity="7.0"/>
        <dynamics damping="0.0" friction="0.0"/>
    </joint>
    <!-- Drive output link -->
    <link name="RF_SHANK">
        <inertial>
            <origin rpy="0 0 0" xyz="0 0 0"/>
            <mass value="0.001"/>
            <inertia ixx="0.000001" ixy="0.0" ixz="0.0" iyy="0.000001" iyz="0.0" izz="0.000001"/>
        </inertial>
    </link>
    <!-- [m] -->
    <!-- measured -->
    <!-- joint KFE shank -->
    <joint name="RF_shank_RF_shank_fixed" type="fixed">
        <parent link="RF_SHANK"/>
        <child link="RF_shank_fixed"/>
        <origin rpy="0 0.261799387799 1.57079632679" xyz="0 0 0"/>
    </joint>
    <!-- Shank link -->
    <link name="RF_shank_fixed">
        <visual>
            <origin rpy="0 0 0.0" xyz="0 0 0"/>
            <geometry>
                <mesh filename="../meshes/shank_3_1_1_mesh_mirrored.dae" scale="1.0 1.0     1.0"/>
            </geometry>
        </visual>
        <inertial>
            <origin rpy="0 0 0" xyz="0.032845496765 -0.020087452943 0.000819464952"/>
            <mass value="0.3203472"/>
            <inertia ixx="0.000315561389972" ixy="1.0430108417e-05" ixz="1.4120800915e-05" iyy="0.00107764668281" iyz="-3.60309972e-07" izz="0.000870072710319"/>
        </inertial>
    </link>
    <!-- [m] -->
    <!-- joint shank foot -->
    <joint name="RF_shank_fixed_RF_FOOT" type="fixed">
        <parent link="RF_shank_fixed"/>
        <child link="RF_FOOT"/>
        <origin rpy="0 0 0" xyz="0.08748 -0.006 -0.342504"/>
    </joint>
    <!-- Foot link -->
    <link name="RF_FOOT">
        <visual>
            <origin rpy="0 0 0" xyz="0 0 0.171252"/>
            <geometry>
                <cylinder length="0.24504" radius="0.0175"/>
            </geometry>
        </visual>
        <visual>
            <origin xyz="0 0 0.0375"/>
            <!--<geometry>-->
                <!--<cylinder length="0.03" radius="0.029"/>-->
            <!--</geometry>-->
            <geometry>
                <sphere radius="0.028"/>
            </geometry>

        </visual>
        <visual>
            <origin xyz="0 0 0.0225"/>
            <geometry>
                <sphere radius="0.03"/>
            </geometry>
        </visual>
        <!-- Adapter collision -->
        <collision>
            <origin rpy="0 0 0" xyz="0 0 0.171252"/>
            <geometry>
                <capsule length="0.24504" radius="0.0175"/>
            </geometry>
        </collision>
        <!-- Foot collision -->
        <collision>
            <origin xyz="0 0 0.0375"/>
            <!--<origin xyz="0 0 0.0"/>-->
            <!--<geometry>-->
                <!--<cylinder length="0.033" radius="0.029"/>-->
            <!--</geometry>-->
            <geometry>
                <sphere radius="0.028"/>
            </geometry>

        </collision>
        <collision>
            <origin xyz="0 0 0.0225"/>
            <geometry>
                <sphere radius="0.03"/>
            </geometry>
        </collision>
        <inertial>
            <origin rpy="0 0 0" xyz="0.08640071854 -4.566e-08 0.158952618655"/>
            <mass value="0.205145377"/>
            <inertia ixx="0.00315582473384" ixy="-2.7197e-10" ixz="0.000388520744383" iyy="0.00316202017111" iyz="-8.6741e-11" izz="8.1052626806e-05"/>
        </inertial>
    </link>
    <!-- Gazebo customization -->
    <gazebo reference="RF_FOOT">
        <kp>1000000.0</kp>
        <kd>100.0</kd>
        <mu1>0.8</mu1>
        <mu2>0.8</mu2>
    </gazebo>
    <!-- [rad] -->
    <!-- joint base HAA -->
    <joint name="base_LH_HAA" type="fixed">
        <parent link="base"/>
        <child link="LH_HAA"/>
        <origin rpy="-0.174532925199 0 -3.14159265359" xyz="-0.3 0.104 0.0"/>
    </joint>
    <!-- [m] -->
    <!-- [A] -->
    <!-- Drive link -->
    <link name="LH_HAA">
        <visual>
            <origin rpy="0 0 0" xyz="0 0 0"/>
            <geometry>
                <mesh filename="../meshes/drive_3_0_2_mesh.dae" scale="1.0 1.0     1.0"/>
            </geometry>
        </visual>
        <inertial>
            <origin rpy="0 0 0" xyz="-0.051008462309 4.2382171e-05 0.001928394422"/>
            <mass value="1.371293164"/>
            <inertia ixx="0.00132750404318" ixy="2.667453e-07" ixz="-6.5578582056e-05" iyy="0.00197358077377" iyz="1.305902533e-06" izz="0.00183646051615"/>
        </inertial>
    </link>
    <!-- joint Drive output -->
    <joint name="LH_HAA" type="revolute">
        <parent link="LH_HAA"/>
        <child link="LH_HIP"/>
        <origin rpy="0 0 0" xyz="0 0 0"/>
        <axis xyz="-1 0 0"/>
        <limit command_effort="57.0" current="10.0" effort="80.0" gear_velocity="10.0" lower="-9.42477796077" upper="9.42477796077" velocity="15.0"/>
        <dynamics damping="0.0" friction="0.0"/>
    </joint>
    <!-- Drive output link -->
    <link name="LH_HIP">
        <inertial>
            <origin rpy="0 0 0" xyz="0 0 0"/>
            <mass value="0.001"/>
            <inertia ixx="0.000001" ixy="0.0" ixz="0.0" iyy="0.000001" iyz="0.0" izz="0.000001"/>
        </inertial>
    </link>
    <!-- [kg * m^2] -->
    <!-- joint HAA hip -->
    <joint name="LH_HIP_LH_hip_fixed" type="fixed">
        <parent link="LH_HIP"/>
        <child link="LH_hip_fixed"/>
        <origin rpy="-0.174532925199 0 -3.14159265359" xyz="0 0 0"/>
    </joint>
    <!-- Hip link -->
    <link name="LH_hip_fixed">
        <visual>
            <origin rpy="0 0 -3.14159265359" xyz="0 0 0"/>
            <geometry>
                <mesh filename="../meshes/hip_3_1_1_mesh_mirrored.dae" scale="1.0 1.0     1.0"/>
            </geometry>
        </visual>
        <inertial>
            <origin rpy="0 0 0" xyz="-0.090762388354 0.000733055279 -0.001556575559"/>
            <mass value="0.490061659"/>
            <inertia ixx="0.00072708117274" ixy="8.107655694e-06" ixz="-2.1517369242e-05" iyy="0.00187018767039" iyz="2.508888647e-05" izz="0.00167883666103"/>
        </inertial>
    </link>
    <!-- [rad] -->
    <!-- joint hip HFE -->
    <joint name="LH_hip_fixed_LH_HFE" type="fixed">
        <parent link="LH_hip_fixed"/>
        <child link="LH_HFE"/>
        <origin rpy="0 0 1.57079632679" xyz="-0.06 0.0701 0.0"/>
    </joint>
    <!-- [m] -->
    <!-- [A] -->
    <!-- Drive link -->
    <link name="LH_HFE">
        <visual>
            <origin rpy="0 0 0" xyz="0 0 0"/>
            <geometry>
                <mesh filename="../meshes/drive_3_0_2_mesh.dae" scale="1.0 1.0     1.0"/>
            </geometry>
        </visual>
        <inertial>
            <origin rpy="0 0 0" xyz="-0.051008462309 4.2382171e-05 0.001928394422"/>
            <mass value="1.371293164"/>
            <inertia ixx="0.00132750404318" ixy="2.667453e-07" ixz="-6.5578582056e-05" iyy="0.00197358077377" iyz="1.305902533e-06" izz="0.00183646051615"/>
        </inertial>
    </link>
    <!-- joint Drive output -->
    <joint name="LH_HFE" type="revolute">
        <parent link="LH_HFE"/>
        <child link="LH_THIGH"/>
        <origin rpy="0 0 0" xyz="0 0 0"/>
        <axis xyz="1 0 0"/>
        <limit command_effort="65.0" current="10.0" effort="80.0" gear_velocity="10.0" lower="-9.42477796077" upper="9.42477796077" velocity="7.0"/>
        <dynamics damping="0.0" friction="0.0"/>
    </joint>
    <!-- Drive output link -->
    <link name="LH_THIGH">
        <inertial>
            <origin rpy="0 0 0" xyz="0 0 0"/>
            <mass value="0.001"/>
            <inertia ixx="0.000001" ixy="0.0" ixz="0.0" iyy="0.000001" iyz="0.0" izz="0.000001"/>
        </inertial>
    </link>
    <!-- [m] -->
    <!-- measured -->
    <!-- joint HFE thigh -->
    <joint name="LH_THIGH_LH_thigh_fixed" type="fixed">
        <parent link="LH_THIGH"/>
        <child link="LH_thigh_fixed"/>
        <origin rpy="0 0 -1.57079632679" xyz="0 0 0"/>
    </joint>
    <!-- Thigh link -->
    <link name="LH_thigh_fixed">
        <visual>
            <origin rpy="0 0 0.0" xyz="0 0 0"/>
            <geometry>
                <mesh filename="../meshes/thigh_3_1_1_mesh.dae" scale="1.0 1.0     1.0"/>
            </geometry>
        </visual>
        <inertial>
            <origin rpy="0 0 0" xyz="-0.0127 0.0171 -0.1414"/>
            <mass value="0.977826611"/>
            <inertia ixx="0.014928" ixy="8.8e-05" ixz="0.001792" iyy="0.0158490785585" iyz="0.000654" izz="0.001794"/>
        </inertial>
    </link>
    <!-- [rad] -->
    <!-- joint thigh KFE -->
    <joint name="LH_thigh_fixed_LH_KFE" type="fixed">
        <parent link="LH_thigh_fixed"/>
        <child link="LH_KFE"/>
        <origin rpy="0.261799387799 0 1.57079632679" xyz="-0.0 0.086887 -0.282627"/>
    </joint>
    <!-- [m] -->
    <!-- [A] -->
    <!-- Drive link -->
    <link name="LH_KFE">
        <visual>
            <origin rpy="0 0 0" xyz="0 0 0"/>
            <geometry>
                <mesh filename="../meshes/drive_3_0_2_mesh.dae" scale="1.0 1.0     1.0"/>
            </geometry>
        </visual>
        <collision>
            <origin rpy="0 1.57079632679 0" xyz="-0.02 0 0"/>
            <geometry>
                <capsule length="0.06" radius="0.06"/>
            </geometry>
        </collision>
        <inertial>
            <origin rpy="0 0 0" xyz="-0.051008462309 4.2382171e-05 0.001928394422"/>
            <mass value="1.371293164"/>
            <inertia ixx="0.00132750404318" ixy="2.667453e-07" ixz="-6.5578582056e-05" iyy="0.00197358077377" iyz="1.305902533e-06" izz="0.00183646051615"/>
        </inertial>
    </link>
    <!-- joint Drive output -->
    <joint name="LH_KFE" type="revolute">
        <parent link="LH_KFE"/>
        <child link="LH_SHANK"/>
        <origin rpy="0 0 0" xyz="0 0 0"/>
        <axis xyz="1 0 0"/>
        <limit command_effort="65.0" current="10.0" effort="80.0" gear_velocity="10.0" lower="-9.42477796077" upper="9.42477796077" velocity="7.0"/>
        <dynamics damping="0.0" friction="0.0"/>
    </joint>
    <!-- Drive output link -->
    <link name="LH_SHANK">
        <inertial>
            <origin rpy="0 0 0" xyz="0 0 0"/>
            <mass value="0.001"/>
            <inertia ixx="0.000001" ixy="0.0" ixz="0.0" iyy="0.000001" iyz="0.0" izz="0.000001"/>
        </inertial>
    </link>
    <!-- [m] -->
    <!-- measured -->
    <!-- joint KFE shank -->
    <joint name="LH_shank_LH_shank_fixed" type="fixed">
        <parent link="LH_SHANK"/>
        <child link="LH_shank_fixed"/>
        <origin rpy="0 -0.261799387799 -1.57079632679" xyz="0 0 0"/>
    </joint>
    <!-- Shank link -->
    <link name="LH_shank_fixed">
        <visual>
            <origin rpy="0 0 -3.14159265359" xyz="0 0 0"/>
            <geometry>
                <mesh filename="../meshes/shank_3_1_1_mesh_mirrored.dae" scale="1.0 1.0     1.0"/>
            </geometry>
        </visual>
        <inertial>
            <origin rpy="0 0 0" xyz="-0.032845496765 0.020087452943 0.000819464952"/>
            <mass value="0.3203472"/>
            <inertia ixx="0.000315561389972" ixy="1.0430108417e-05" ixz="-1.4120800915e-05" iyy="0.00107764668281" iyz="3.60309972e-07" izz="0.000870072710319"/>
        </inertial>
    </link>
    <!-- [m] -->
    <!-- joint shank foot -->
    <joint name="LH_shank_fixed_LH_FOOT" type="fixed">
        <parent link="LH_shank_fixed"/>
        <child link="LH_FOOT"/>
        <origin rpy="0 0 0" xyz="-0.08748 0.006 -0.342504"/>
    </joint>
    <!-- Foot link -->
    <link name="LH_FOOT">
        <!-- temporary visual, copied collision body -->
        <visual>
            <origin rpy="0 0 0" xyz="0 0 0.171252"/>
            <geometry>
                <cylinder length="0.24504" radius="0.0175"/>
            </geometry>
        </visual>
        <visual>
            <origin xyz="0 0 0.0375"/>
            <!--<geometry>-->
                <!--<cylinder length="0.03" radius="0.029"/>-->
            <!--</geometry>-->
            <geometry>
                <sphere radius="0.028"/>
            </geometry>
        </visual>
        <visual>
            <origin xyz="0 0 0.0225"/>
            <geometry>
                <sphere radius="0.03"/>
            </geometry>
        </visual>
        <!-- Adapter collision -->
        <collision>
            <origin rpy="0 0 0" xyz="0 0 0.171252"/>
            <geometry>
                <capsule length="0.24504" radius="0.0175"/>
            </geometry>
        </collision>
        <!-- Foot collision -->
        <collision>
            <origin xyz="0 0 0.0375"/>
            <!--<origin xyz="0 0 0.0"/>-->
            <!--<geometry>-->
                <!--<cylinder length="0.033" radius="0.029"/>-->
            <!--</geometry>-->
            <geometry>
                <sphere radius="0.028"/>
            </geometry>
        </collision>
        <collision>
            <origin xyz="0 0 0.0225"/>
            <geometry>
                <sphere radius="0.03"/>
            </geometry>
        </collision>
        <inertial>
            <origin rpy="0 0 0" xyz="-0.08640071854 4.566e-08 0.158952618655"/>
            <mass value="0.205145377"/>
            <inertia ixx="0.00315582473384" ixy="-2.7197e-10" ixz="-0.000388520744383" iyy="0.00316202017111" iyz="8.6741e-11" izz="8.1052626806e-05"/>
        </inertial>
    </link>
    <!-- Gazebo customization -->
    <gazebo reference="LH_FOOT">
        <kp>1000000.0</kp>
        <kd>100.0</kd>
        <mu1>0.8</mu1>
        <mu2>0.8</mu2>
    </gazebo>
    <!-- [rad] -->
    <!-- joint base HAA -->
    <joint name="base_RH_HAA" type="fixed">
        <parent link="base"/>
        <child link="RH_HAA"/>
        <origin rpy="0.174532925199 0 -3.14159265359" xyz="-0.3 -0.104 0.0"/>
    </joint>
    <!-- [m] -->
    <!-- [A] -->
    <!-- Drive link -->
    <link name="RH_HAA">
        <visual>
            <origin rpy="0 0 0" xyz="0 0 0"/>
            <geometry>
                <mesh filename="../meshes/drive_3_0_2_mesh.dae" scale="1.0 1.0     1.0"/>
            </geometry>
        </visual>
        <inertial>
            <origin rpy="0 0 0" xyz="-0.051008462309 4.2382171e-05 0.001928394422"/>
            <mass value="1.371293164"/>
            <inertia ixx="0.00132750404318" ixy="2.667453e-07" ixz="-6.5578582056e-05" iyy="0.00197358077377" iyz="1.305902533e-06" izz="0.00183646051615"/>
        </inertial>
    </link>
    <!-- joint Drive output -->
    <joint name="RH_HAA" type="revolute">
        <parent link="RH_HAA"/>
        <child link="RH_HIP"/>
        <origin rpy="0 0 0" xyz="0 0 0"/>
        <axis xyz="-1 0 0"/>
        <limit command_effort="57.0" current="10.0" effort="80.0" gear_velocity="10.0" lower="-9.42477796077" upper="9.42477796077" velocity="15.0"/>
        <dynamics damping="0.0" friction="0.0"/>
    </joint>
    <!-- Drive output link -->
    <link name="RH_HIP">
        <inertial>
            <origin rpy="0 0 0" xyz="0 0 0"/>
            <mass value="0.001"/>
            <inertia ixx="0.000001" ixy="0.0" ixz="0.0" iyy="0.000001" iyz="0.0" izz="0.000001"/>
        </inertial>
    </link>
    <!-- [kg * m^2] -->
    <!-- joint HAA hip -->
    <joint name="RH_HIP_RH_hip_fixed" type="fixed">
        <parent link="RH_HIP"/>
        <child link="RH_hip_fixed"/>
        <origin rpy="0.174532925199 0 -3.14159265359" xyz="0 0 0"/>
    </joint>
    <!-- Hip link -->
    <link name="RH_hip_fixed">
        <visual>
            <origin rpy="0 0 -3.14159265359" xyz="0 0 0"/>
            <geometry>
                <mesh filename="../meshes/hip_3_1_1_mesh.dae" scale="1.0 1.0     1.0"/>
            </geometry>
        </visual>
        <inertial>
            <origin rpy="0 0 0" xyz="-0.090762388354 -0.000733055279 -0.001556575559"/>
            <mass value="0.490061659"/>
            <inertia ixx="0.00072708117274" ixy="-8.107655694e-06" ixz="-2.1517369242e-05" iyy="0.00187018767039" iyz="-2.508888647e-05" izz="0.00167883666103"/>
        </inertial>
    </link>
    <!-- [rad] -->
    <!-- joint hip HFE -->
    <joint name="RH_hip_fixed_RH_HFE" type="fixed">
        <parent link="RH_hip_fixed"/>
        <child link="RH_HFE"/>
        <origin rpy="0 0 -1.57079632679" xyz="-0.06 -0.0701 0.0"/>
    </joint>
    <!-- [m] -->
    <!-- [A] -->
    <!-- Drive link -->
    <link name="RH_HFE">
        <visual>
            <origin rpy="0 0 0" xyz="0 0 0"/>
            <geometry>
                <mesh filename="../meshes/drive_3_0_2_mesh.dae" scale="1.0 1.0     1.0"/>
            </geometry>
        </visual>
        <inertial>
            <origin rpy="0 0 0" xyz="-0.051008462309 4.2382171e-05 0.001928394422"/>
            <mass value="1.371293164"/>
            <inertia ixx="0.00132750404318" ixy="2.667453e-07" ixz="-6.5578582056e-05" iyy="0.00197358077377" iyz="1.305902533e-06" izz="0.00183646051615"/>
        </inertial>
    </link>
    <!-- joint Drive output -->
    <joint name="RH_HFE" type="revolute">
        <parent link="RH_HFE"/>
        <child link="RH_THIGH"/>
        <origin rpy="0 0 0" xyz="0 0 0"/>
        <axis xyz="-1 0 0"/>
        <limit command_effort="65.0" current="10.0" effort="80.0" gear_velocity="10.0" lower="-9.42477796077" upper="9.42477796077" velocity="7.0"/>
        <dynamics damping="0.0" friction="0.0"/>
    </joint>
    <!-- Drive output link -->
    <link name="RH_THIGH">
        <inertial>
            <origin rpy="0 0 0" xyz="0 0 0"/>
            <mass value="0.001"/>
            <inertia ixx="0.000001" ixy="0.0" ixz="0.0" iyy="0.000001" iyz="0.0" izz="0.000001"/>
        </inertial>
    </link>
    <!-- [m] -->
    <!-- measured -->
    <!-- joint HFE thigh -->
    <joint name="RH_THIGH_RH_thigh_fixed" type="fixed">
        <parent link="RH_THIGH"/>
        <child link="RH_thigh_fixed"/>
        <origin rpy="0 0 1.57079632679" xyz="0 0 0"/>
    </joint>
    <!-- Thigh link -->
    <link name="RH_thigh_fixed">
        <visual>
            <origin rpy="0 0 -3.14159265359" xyz="0 0 0"/>
            <geometry>
                <mesh filename="../meshes/thigh_3_1_1_mesh.dae" scale="1.0 1.0     1.0"/>
            </geometry>
        </visual>
        <inertial>
            <origin rpy="0 0 0" xyz="-0.0127 -0.0171 -0.1414"/>
            <mass value="0.977826611"/>
            <inertia ixx="0.014928" ixy="-8.8e-05" ixz="0.001792" iyy="0.0158490785585" iyz="-0.000654" izz="0.001794"/>
        </inertial>
    </link>
    <!-- [rad] -->
    <!-- joint thigh KFE -->
    <joint name="RH_thigh_fixed_RH_KFE" type="fixed">
        <parent link="RH_thigh_fixed"/>
        <child link="RH_KFE"/>
        <origin rpy="-0.261799387799 0 -1.57079632679" xyz="-0.0 -0.086887 -0.282627"/>
    </joint>
    <!-- [m] -->
    <!-- [A] -->
    <!-- Drive link -->
    <link name="RH_KFE">
        <visual>
            <origin rpy="0 0 0" xyz="0 0 0"/>
            <geometry>
                <mesh filename="../meshes/drive_3_0_2_mesh.dae" scale="1.0 1.0     1.0"/>
            </geometry>
        </visual>
        <collision>
            <origin rpy="0 1.57079632679 0" xyz="-0.02 0 0"/>
            <geometry>
                <capsule length="0.06" radius="0.06"/>
            </geometry>
        </collision>
        <inertial>
            <origin rpy="0 0 0" xyz="-0.051008462309 4.2382171e-05 0.001928394422"/>
            <mass value="1.371293164"/>
            <inertia ixx="0.00132750404318" ixy="2.667453e-07" ixz="-6.5578582056e-05" iyy="0.00197358077377" iyz="1.305902533e-06" izz="0.00183646051615"/>
        </inertial>
    </link>
    <!-- joint Drive output -->
    <joint name="RH_KFE" type="revolute">
        <parent link="RH_KFE"/>
        <child link="RH_SHANK"/>
        <origin rpy="0 0 0" xyz="0 0 0"/>
        <axis xyz="-1 0 0"/>
        <limit command_effort="65.0" current="10.0" effort="80.0" gear_velocity="10.0" lower="-9.42477796077" upper="9.42477796077" velocity="7.0"/>
        <dynamics damping="0.0" friction="0.0"/>
    </joint>
    <!-- Drive output link -->
    <link name="RH_SHANK">
        <inertial>
            <origin rpy="0 0 0" xyz="0 0 0"/>
            <mass value="0.001"/>
            <inertia ixx="0.000001" ixy="0.0" ixz="0.0" iyy="0.000001" iyz="0.0" izz="0.000001"/>
        </inertial>
    </link>
    <!-- [m] -->
    <!-- measured -->
    <!-- joint KFE shank -->
    <joint name="RH_shank_RH_shank_fixed" type="fixed">
        <parent link="RH_SHANK"/>
        <child link="RH_shank_fixed"/>
        <origin rpy="0 -0.261799387799 1.57079632679" xyz="0 0 0"/>
    </joint>
    <!-- Shank link -->
    <link name="RH_shank_fixed">
        <visual>
            <origin rpy="0 0 -3.14159265359" xyz="0 0 0"/>
            <geometry>
                <mesh filename="../meshes/shank_3_1_1_mesh.dae" scale="1.0 1.0     1.0"/>
            </geometry>
        </visual>
        <inertial>
            <origin rpy="0 0 0" xyz="-0.032845496765 -0.020087452943 0.000819464952"/>
            <mass value="0.3203472"/>
            <inertia ixx="0.000315561389972" ixy="-1.0430108417e-05" ixz="-1.4120800915e-05" iyy="0.00107764668281" iyz="-3.60309972e-07" izz="0.000870072710319"/>
        </inertial>
    </link>
    <!-- [m] -->
    <!-- joint shank foot -->
    <joint name="RH_shank_fixed_RH_FOOT" type="fixed">
        <parent link="RH_shank_fixed"/>
        <child link="RH_FOOT"/>
        <origin rpy="0 0 0" xyz="-0.08748 -0.006 -0.342504"/>
    </joint>
    <!-- Foot link -->
    <link name="RH_FOOT">
        <!-- temporary visual, copied collision body -->
        <visual>
            <origin rpy="0 0 0" xyz="0 0 0.171252"/>
            <geometry>
                <cylinder length="0.24504" radius="0.0175"/>
            </geometry>
        </visual>
        <visual>
            <origin xyz="0 0 0.0375"/>
            <!--<geometry>-->
                <!--<cylinder length="0.03" radius="0.029"/>-->
            <!--</geometry>-->
            <geometry>
                <sphere radius="0.028"/>
            </geometry>
        </visual>

        <visual>
            <origin xyz="0 0 0.0225"/>
            <geometry>
                <sphere radius="0.03"/>
            </geometry>
        </visual>
        <!-- Adapter collision -->
        <collision>
            <origin rpy="0 0 0" xyz="0 0 0.171252"/>
            <geometry>
                <capsule length="0.24504" radius="0.0175"/>
            </geometry>
        </collision>
        <!-- Foot collision -->
        <collision>
            <origin xyz="0 0 0.0375"/>
            <!--<origin xyz="0 0 0.0"/>-->
            <!--<geometry>-->
                <!--<cylinder length="0.033" radius="0.029"/>-->
            <!--</geometry>-->
            <geometry>
                <sphere radius="0.028"/>
            </geometry>
        </collision>
        <collision>
            <origin xyz="0 0 0.0225"/>
            <geometry>
                <sphere radius="0.03"/>
            </geometry>
        </collision>
        <inertial>
            <origin rpy="0 0 0" xyz="-0.08640071854 -4.566e-08 0.158952618655"/>
            <mass value="0.205145377"/>
            <inertia ixx="0.00315582473384" ixy="2.7197e-10" ixz="-0.000388520744383" iyy="0.00316202017111" iyz="-8.6741e-11" izz="8.1052626806e-05"/>
        </inertial>
    </link>
</robot>
